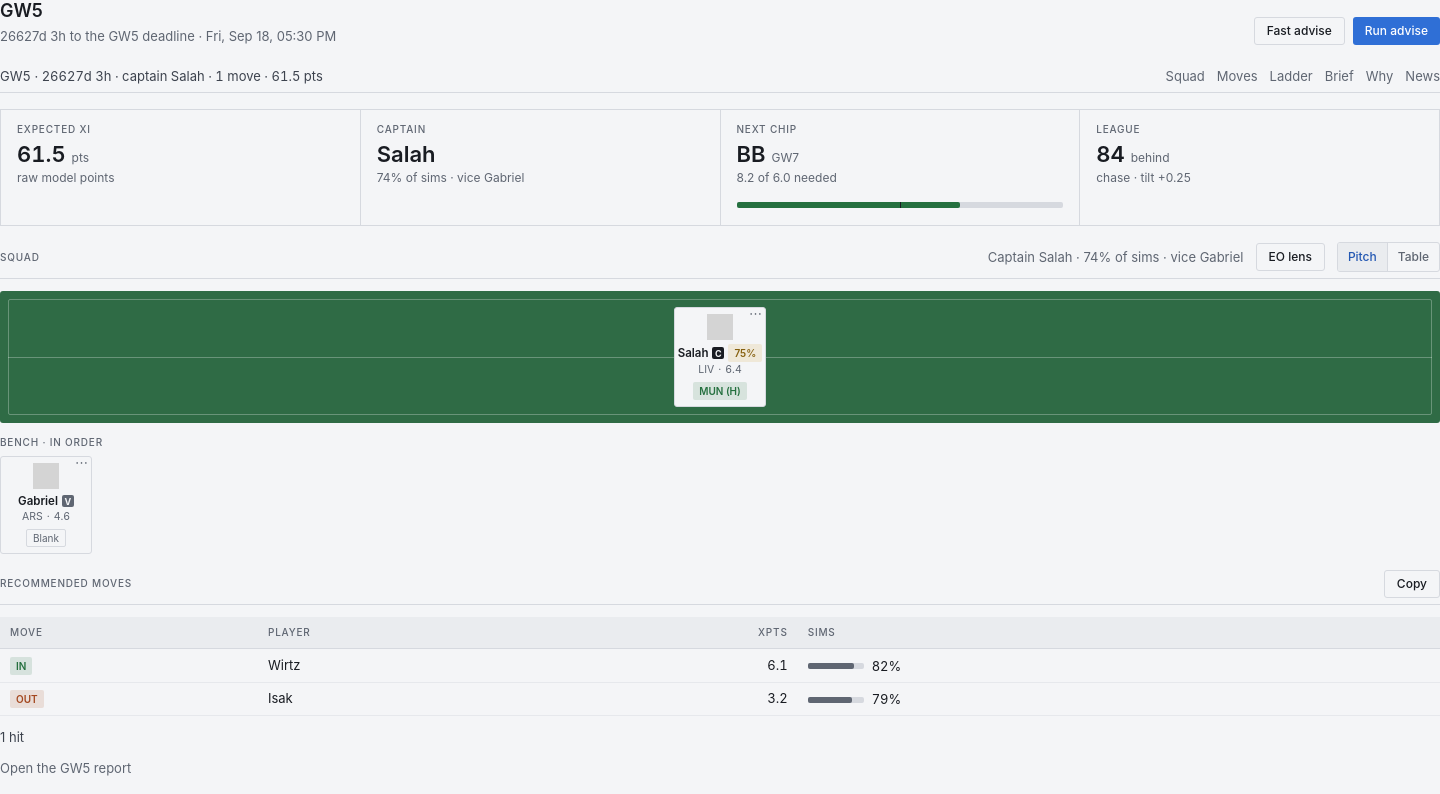
Test case: the pitch and the table › switches to the table and back
What coordinates should you click on to do the following:
click the button "Table"
I would click on:
 (1413, 257)
Its box is [1388,243,1439,271].
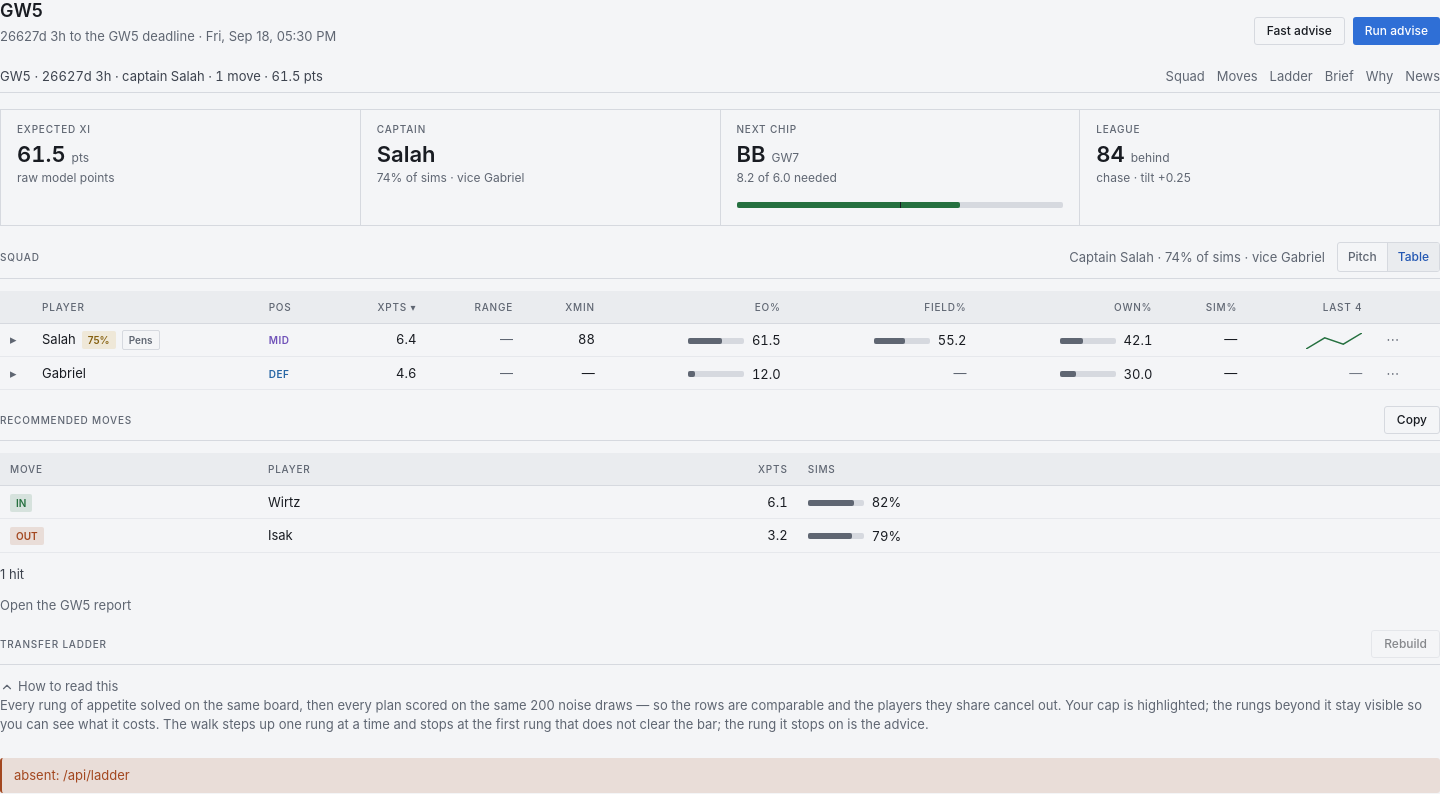
Check: the table that starts with "Player" is shown, box [0,291,1439,390]
Check: the element with test id "pitch-row-MID" is gone
What coordinates should you click on to do the following:
click the button "Pitch"
I would click on:
 (1363, 257)
Its box is [1338,243,1388,271].
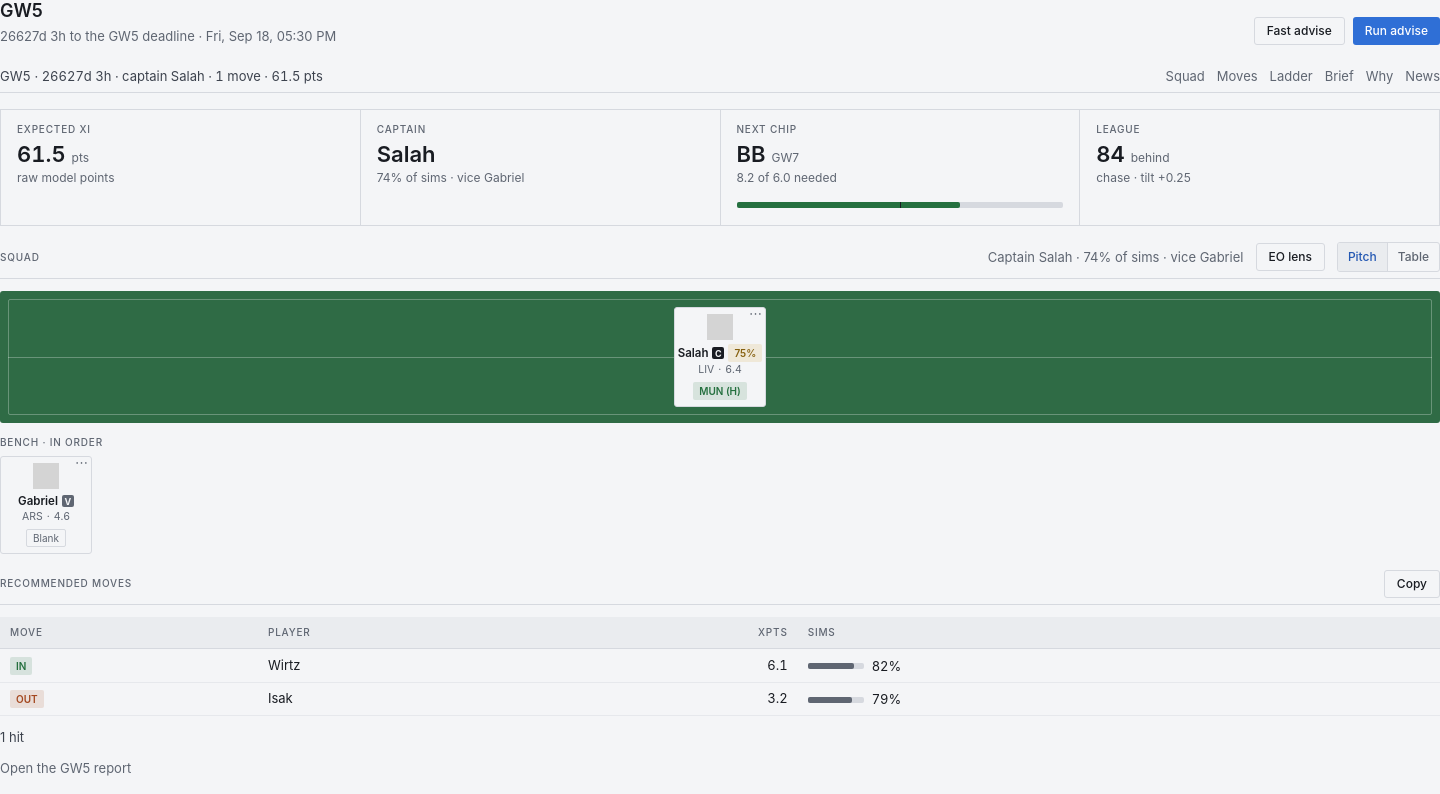
Check: the element with test id "pitch-row-MID" is shown, box [674,307,766,407]
